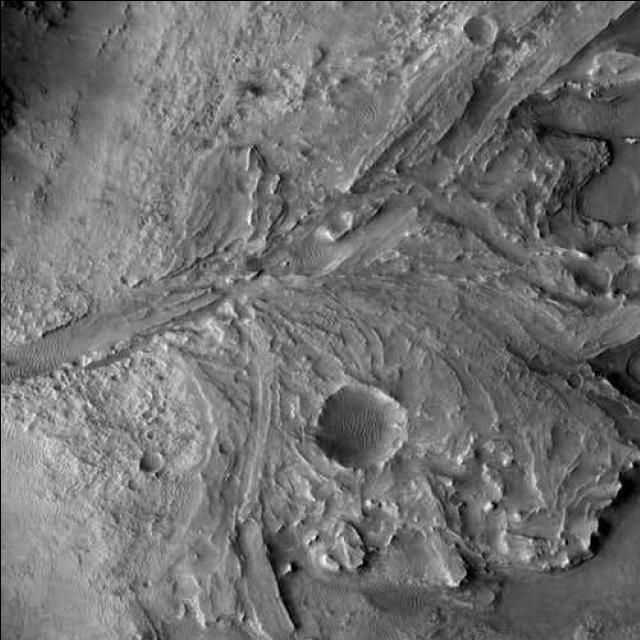crater: (306, 374, 425, 484), (552, 0, 635, 41), (0, 207, 38, 289), (456, 2, 504, 48), (132, 443, 174, 484), (535, 0, 590, 27), (581, 0, 640, 22)
